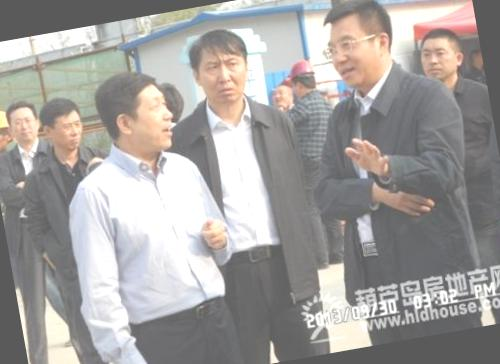no_helmet: (90, 62, 181, 166), (317, 0, 404, 90), (182, 20, 260, 114), (34, 90, 90, 160), (412, 19, 466, 84), (3, 95, 44, 148), (267, 80, 297, 118)
